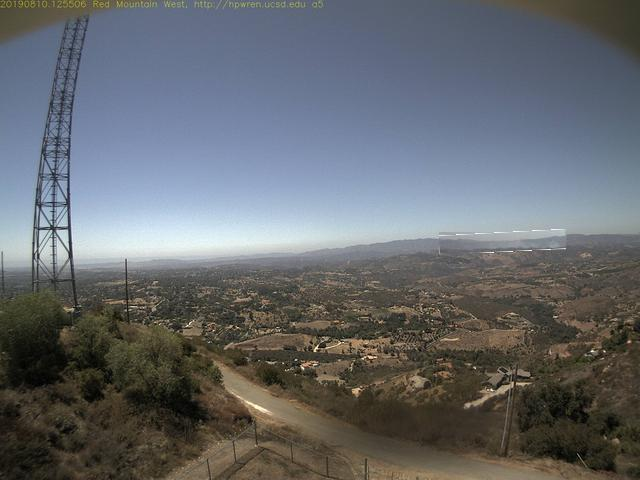smoke: (440, 232, 568, 254)
